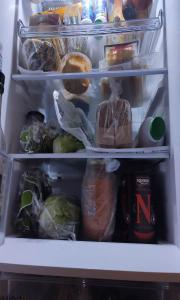Brocoli: (52, 90, 94, 154)
Leche: (132, 116, 166, 148)
Lechuga/Endivia: (36, 195, 80, 240)
Yogur: (94, 0, 108, 22), (81, 0, 93, 24)
